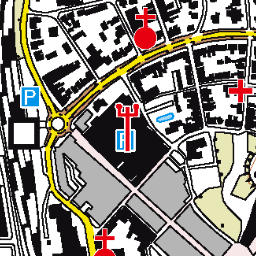church: (132, 5, 161, 52), (89, 225, 118, 256)
